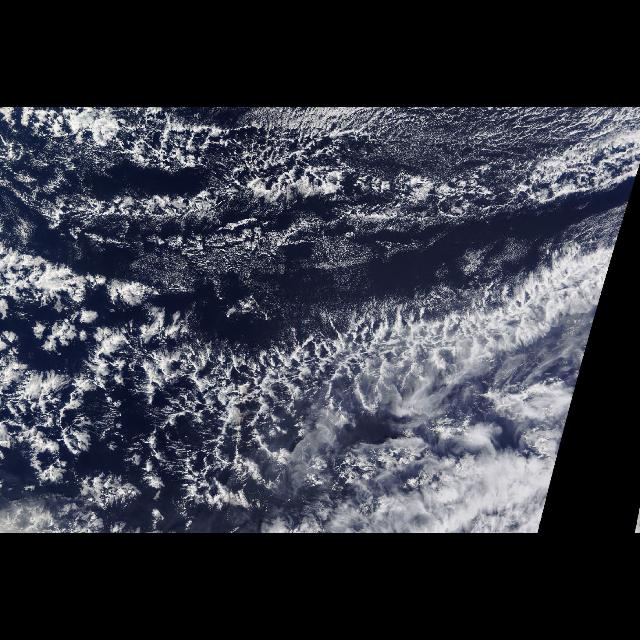Fish: (123, 238, 619, 507)
Gravel: (223, 108, 622, 238)
Sugar: (135, 246, 498, 314)
